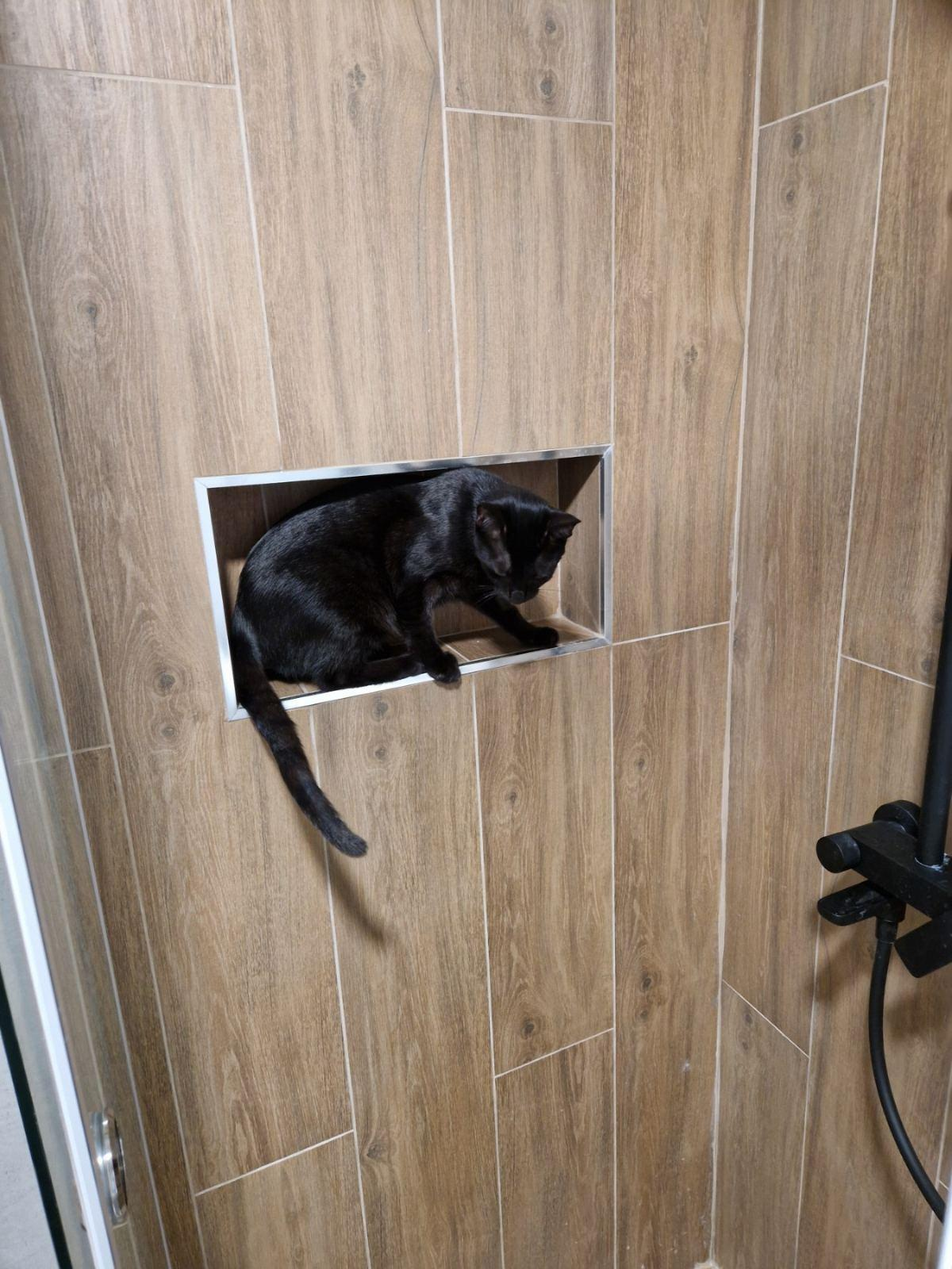macka: (219, 458, 585, 862)
